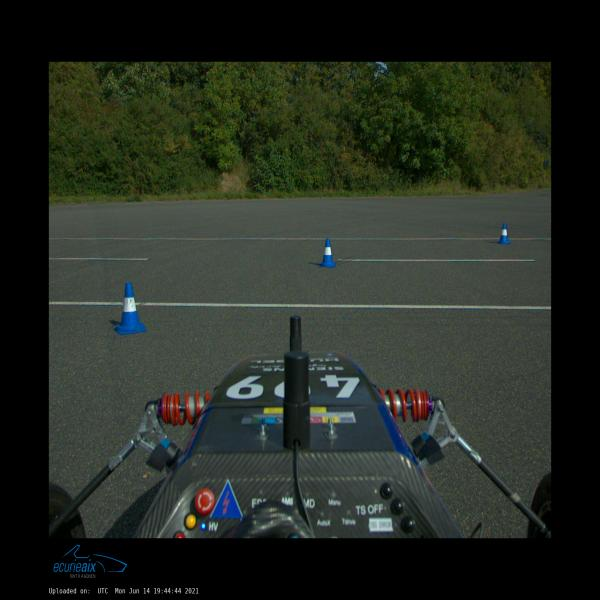blue_cone: (114, 282, 147, 334), (318, 239, 337, 267), (496, 224, 511, 245)
